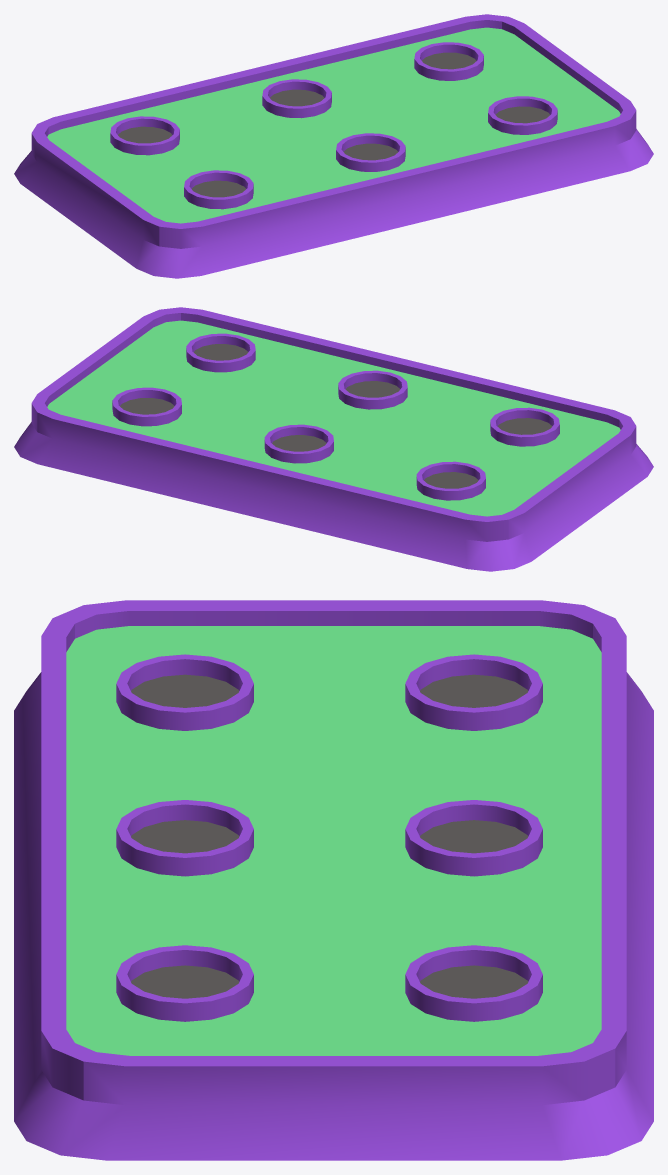
Rendered from Obstacle 27 V4.fbx.
The picture shows the model from 3 angles, top to bottom: view 1: azimuth 30°, elevation 25°; view 2: azimuth 150°, elevation 25°; view 3: azimuth 270°, elevation 25°; orthographic projection. The views are drawn at different scales.
Parts seen in each view (by area): view 1: 027 Part 1; view 2: 027 Part 1; view 3: 027 Part 1.
Part boxes in pixels (left/top/right/bottom): 027 Part 1: left=14, top=14, right=653, bottom=278; 027 Part 1: left=14, top=307, right=653, bottom=571; 027 Part 1: left=14, top=600, right=653, bottom=1160.
Size of the model in its own units: 249 by 20.48 by 138.
Materials: 1 (1 with a texture image).
